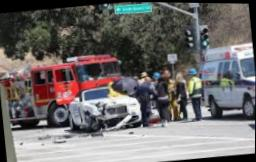Bonnet: (83, 94, 136, 109)
Bumper: (94, 110, 141, 132)
Fender: (83, 101, 101, 116)
